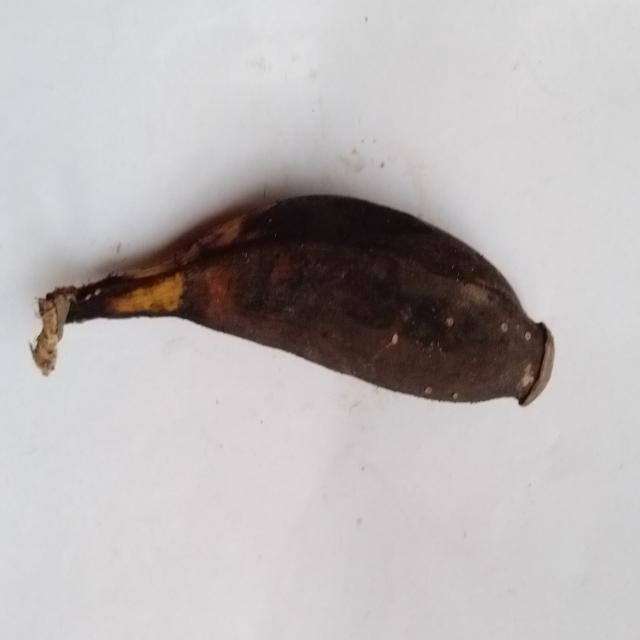banana: (34, 196, 553, 404)
